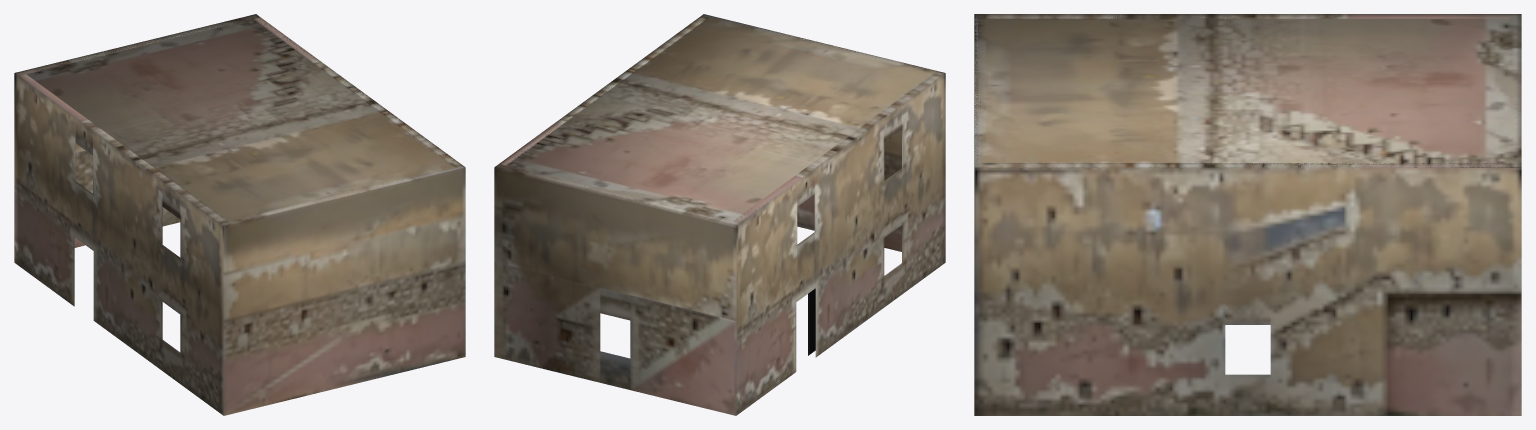
The model's file is skin_town_-114_165.glb.
The picture shows the model from 3 angles, left to right: view 1: azimuth 30°, elevation 25°; view 2: azimuth 150°, elevation 25°; view 3: azimuth 270°, elevation 25°; orthographic projection. The views are drawn at different scales.
Parts seen in each view (by area): view 1: town_-114_165; view 2: town_-114_165; view 3: town_-114_165.
Part boxes in pixels (x1,y1,x2,y2): town_-114_165: (14, 14, 465, 415); town_-114_165: (494, 14, 945, 415); town_-114_165: (974, 14, 1521, 415).
Bounding box in the file's own units: 8 × 6 × 12.
1 material, 1 textured.
